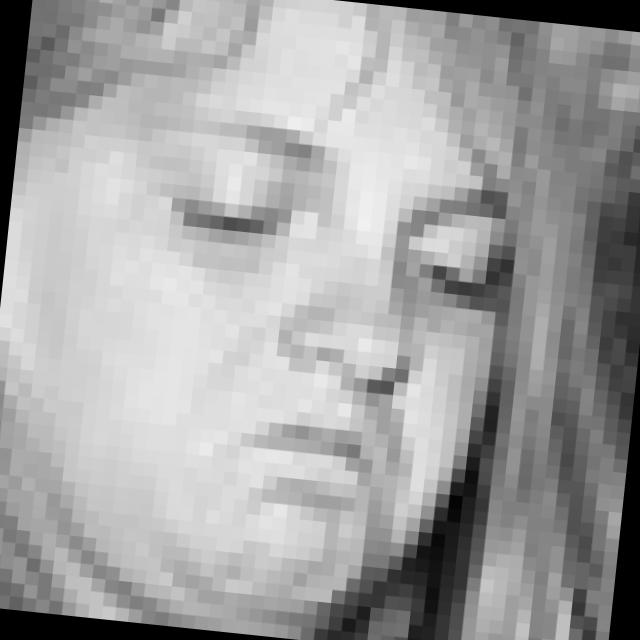disgust: (128, 100, 522, 574)
